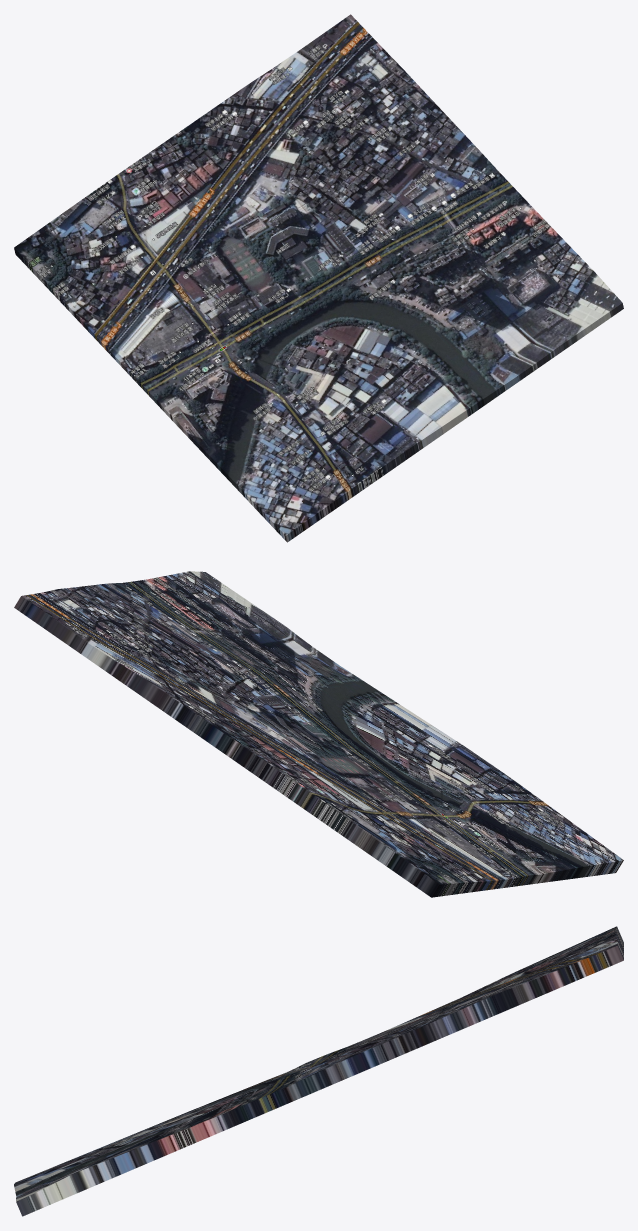
3 views of the same model, one above another, from view 1: azimuth 30°, elevation 25°; view 2: azimuth 150°, elevation 25°; view 3: azimuth 270°, elevation 25° (orthographic). The views are drawn at different scales.
Parts seen in each view (by area): view 1: 0_21_20; view 2: 0_21_20; view 3: 0_21_20.
Boxes of the visible parts, <box> form: 0_21_20: <box>14,14,623,542</box>; 0_21_20: <box>14,571,623,897</box>; 0_21_20: <box>14,926,623,1216</box>.
Size of the model in its own units: 598 by 440 by 550.
Materials: 1 (1 with a texture image).
